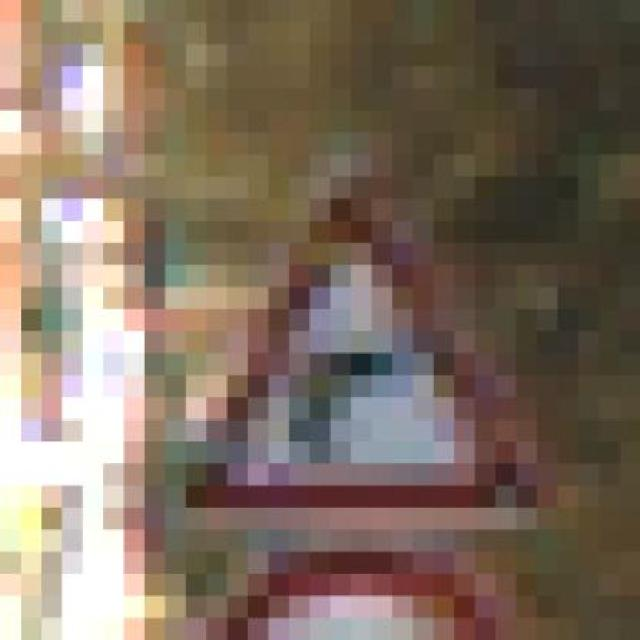Dangerous Rright Curve Ahead: (144, 154, 578, 552)
